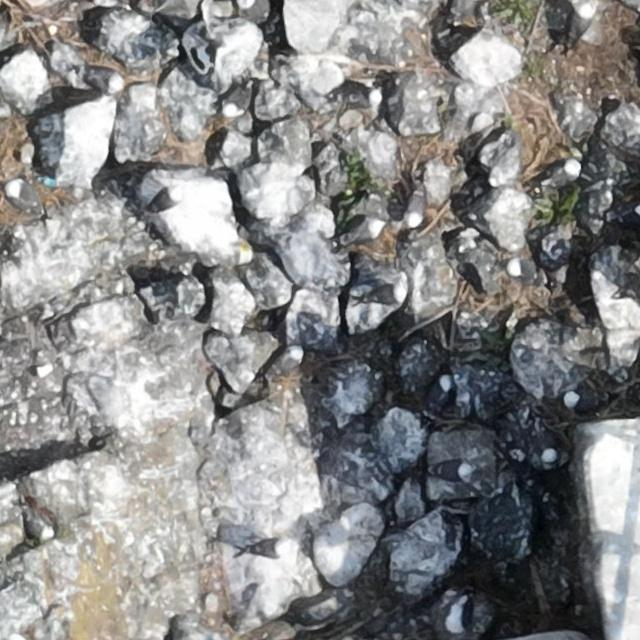umineko: (4, 179, 48, 219), (80, 62, 126, 96), (538, 160, 584, 192), (442, 592, 475, 636), (223, 76, 256, 118), (243, 534, 292, 561), (430, 456, 474, 484), (270, 343, 306, 376), (338, 84, 382, 110), (406, 186, 432, 228), (148, 184, 183, 215), (531, 429, 559, 466), (565, 390, 611, 411), (426, 376, 450, 416), (358, 286, 406, 303), (502, 258, 546, 276), (345, 221, 384, 241)
